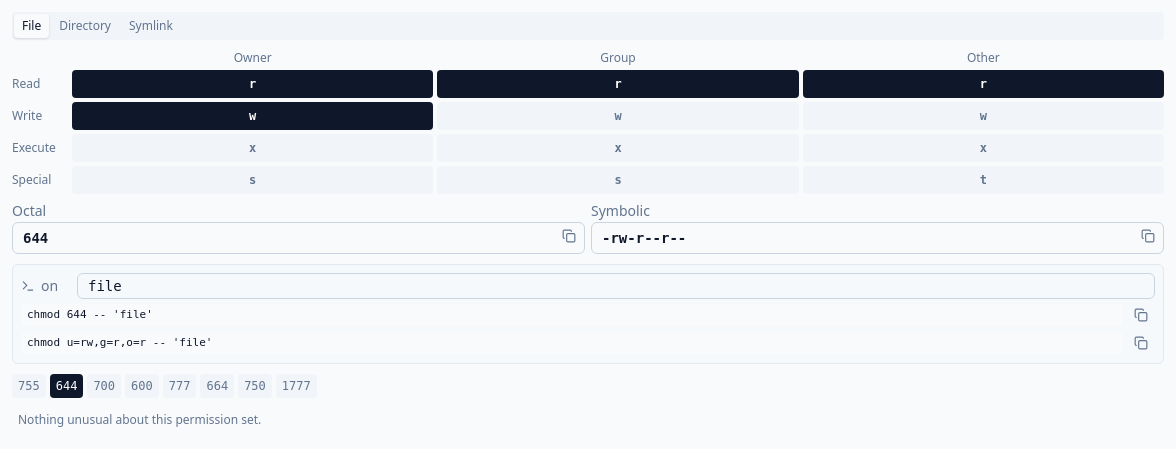
Scenario: UnixPermissionsWidget › applies a preset when clicked
This screenshot has width=1176, height=449.
Click the button "777".
click(180, 386)  # box [163, 374, 196, 398]
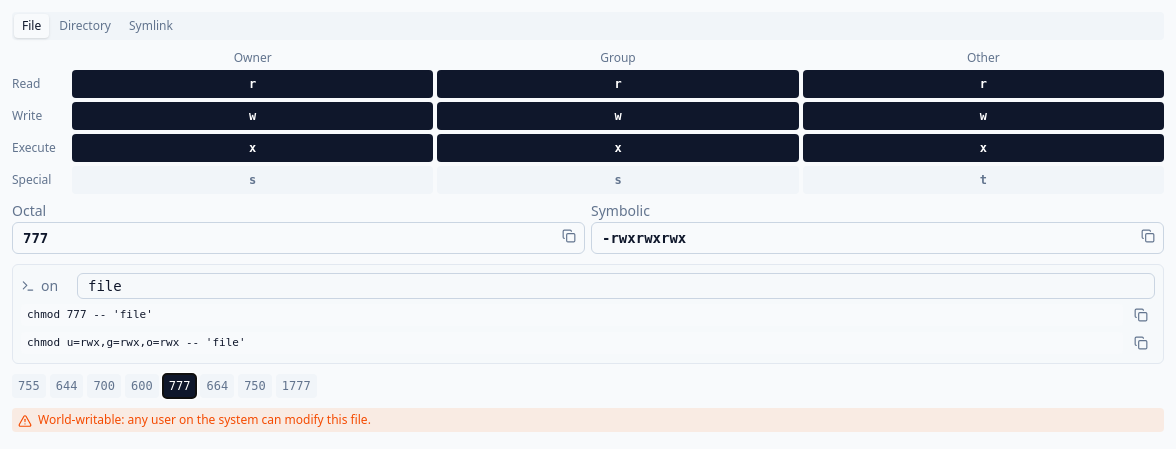
Expected: the field labelled "Octal" holds "777", [12, 222, 585, 254]
Expected: the field labelled "Symbolic" holds "-rwxrwxrwx", [591, 222, 1164, 254]
